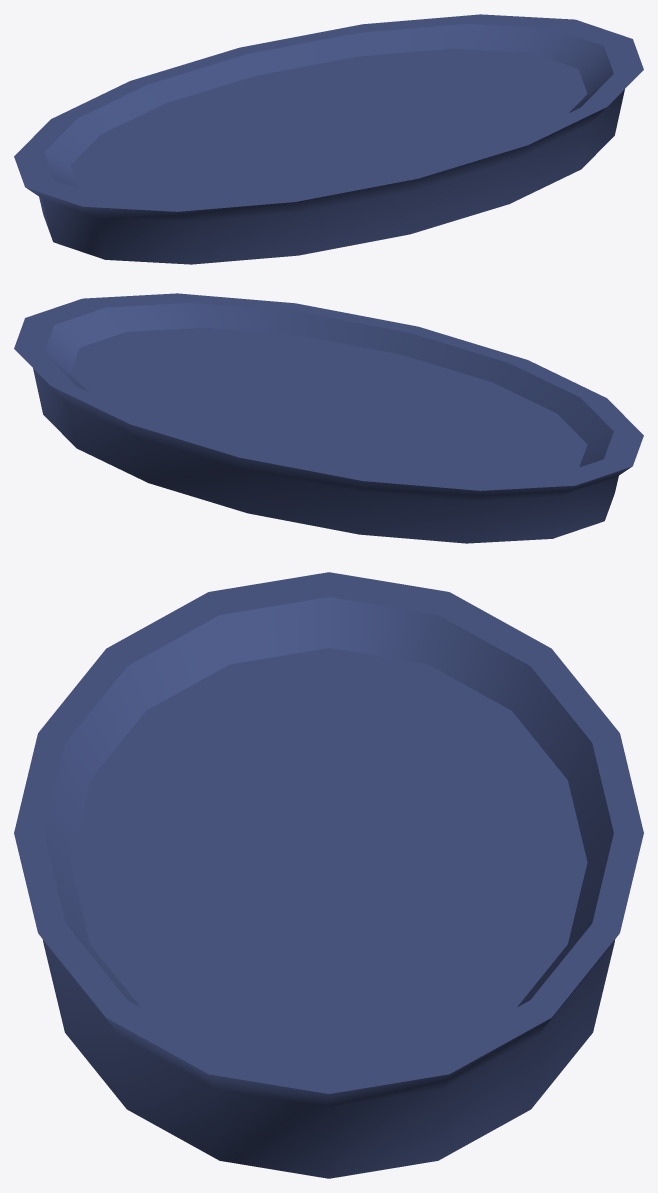
File: soapPlate.fbx
3 views of the same model, one above another, from view 1: azimuth 30°, elevation 25°; view 2: azimuth 150°, elevation 25°; view 3: azimuth 270°, elevation 25° (orthographic). The views are drawn at different scales.
Visible parts, largest first — view 1: soaptray; view 2: soaptray; view 3: soaptray.
Part boxes in pixels (<box>): soaptray: <box>14,14,643,264</box>; soaptray: <box>14,293,643,543</box>; soaptray: <box>14,572,643,1178</box>.
Size of the model in its own units: 0.2665 by 0.0259 by 0.1359.
